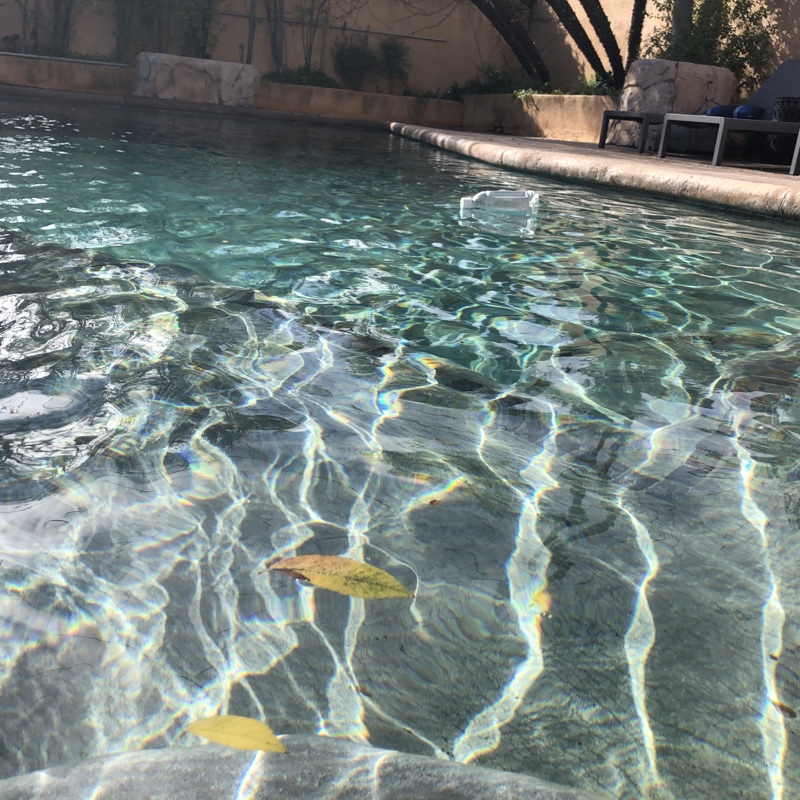Plastic Bottle: (456, 186, 541, 221)
